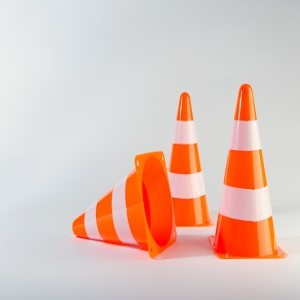traffic cone: (208, 84, 288, 259), (72, 151, 177, 259), (143, 92, 214, 227)
